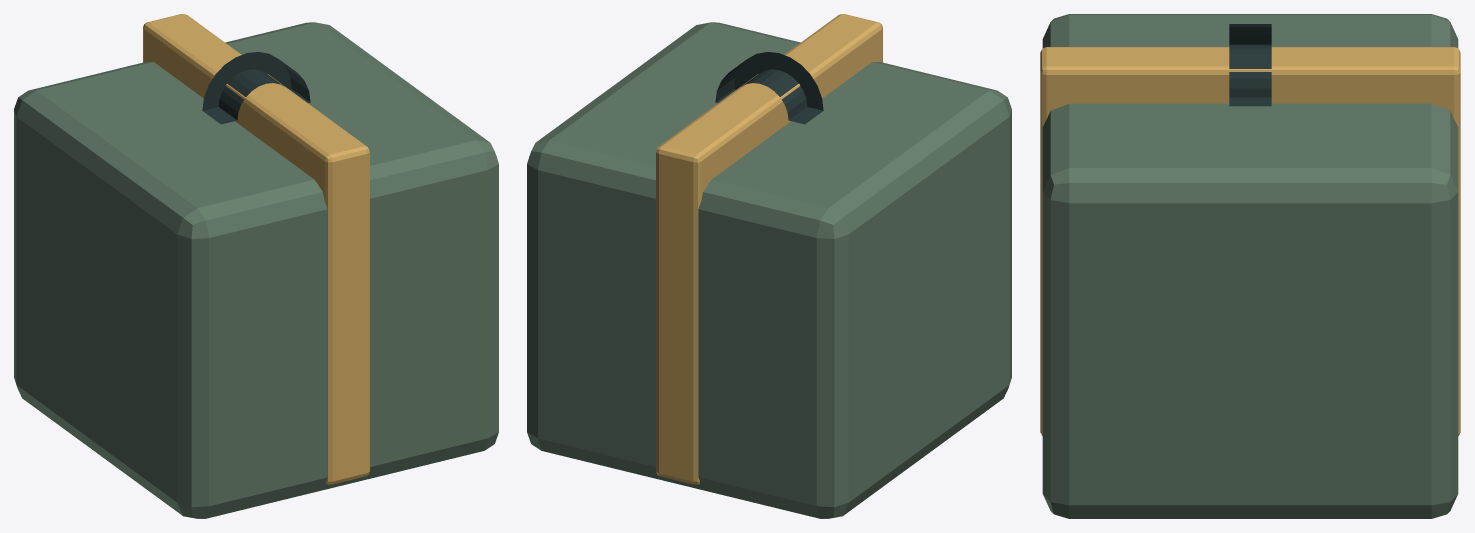
Rendered from ballast.glb.
3 views of the same model, side by side, from view 1: azimuth 30°, elevation 25°; view 2: azimuth 150°, elevation 25°; view 3: azimuth 270°, elevation 25° (orthographic). The views are drawn at different scales.
Parts seen in each view (by area): view 1: ballast_solid; view 2: ballast_solid; view 3: ballast_solid.
Boxes of the visible parts, left/top/right/bottom form: ballast_solid: left=14, top=14, right=498, bottom=518; ballast_solid: left=527, top=14, right=1011, bottom=518; ballast_solid: left=1040, top=14, right=1460, bottom=518.
Size of the model in its own units: 1.57 by 1.72 by 1.59.
